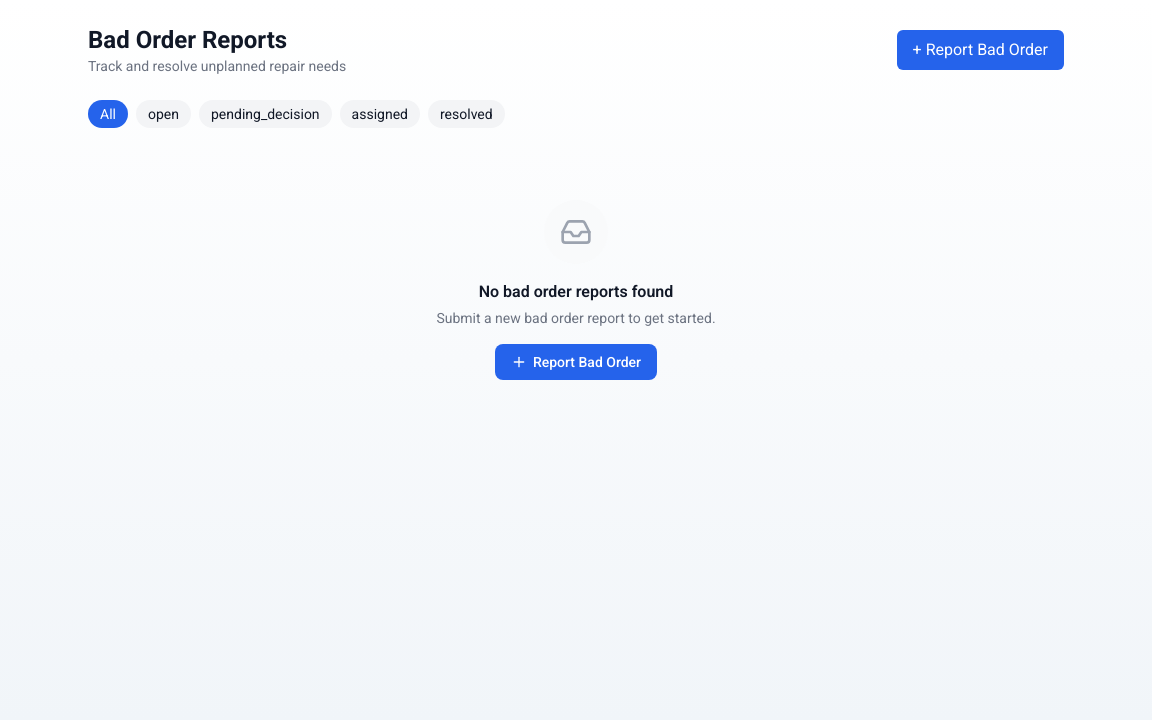
Test: BadOrdersPage › shows form when Report Bad Order button clicked
The image size is (1152, 720).
Click the button "+ Report Bad Order" at (980, 50), box [897, 30, 1064, 70]
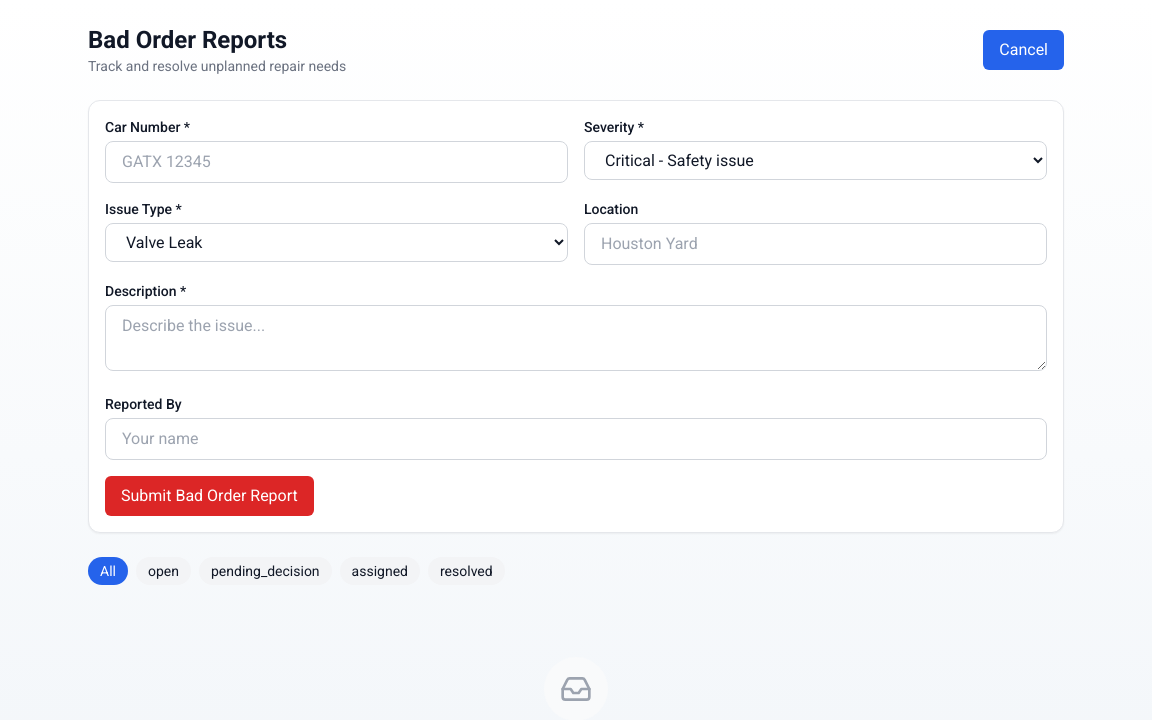
Result: the text "Car Number *" is shown at [105, 119, 190, 135]
Result: the text "Severity *" is shown at [584, 119, 644, 135]
Result: the text "Issue Type *" is shown at [105, 201, 182, 217]
